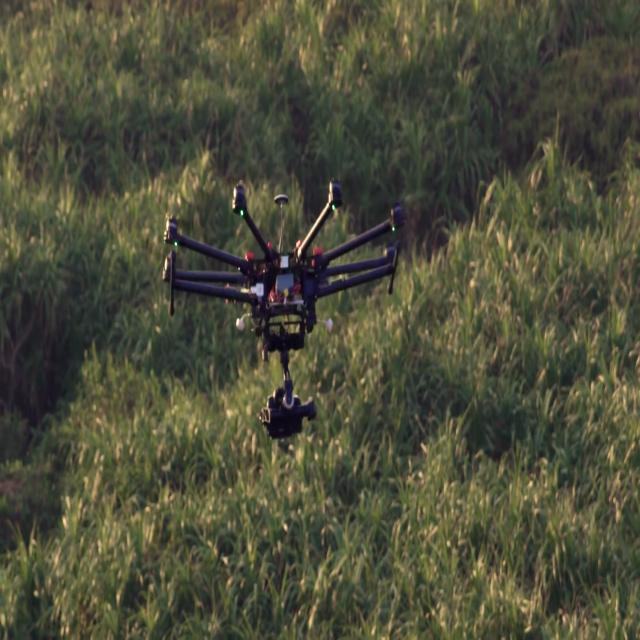drone: (156, 132, 415, 489)
